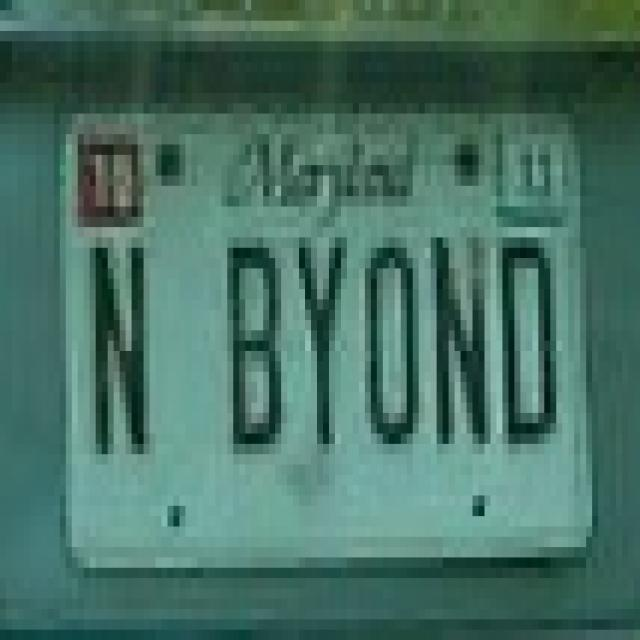0: (362, 225, 423, 457)
B: (219, 223, 288, 473)
D: (495, 222, 571, 463)
N: (85, 225, 161, 485), (430, 226, 496, 453)
Y: (291, 223, 352, 473)
